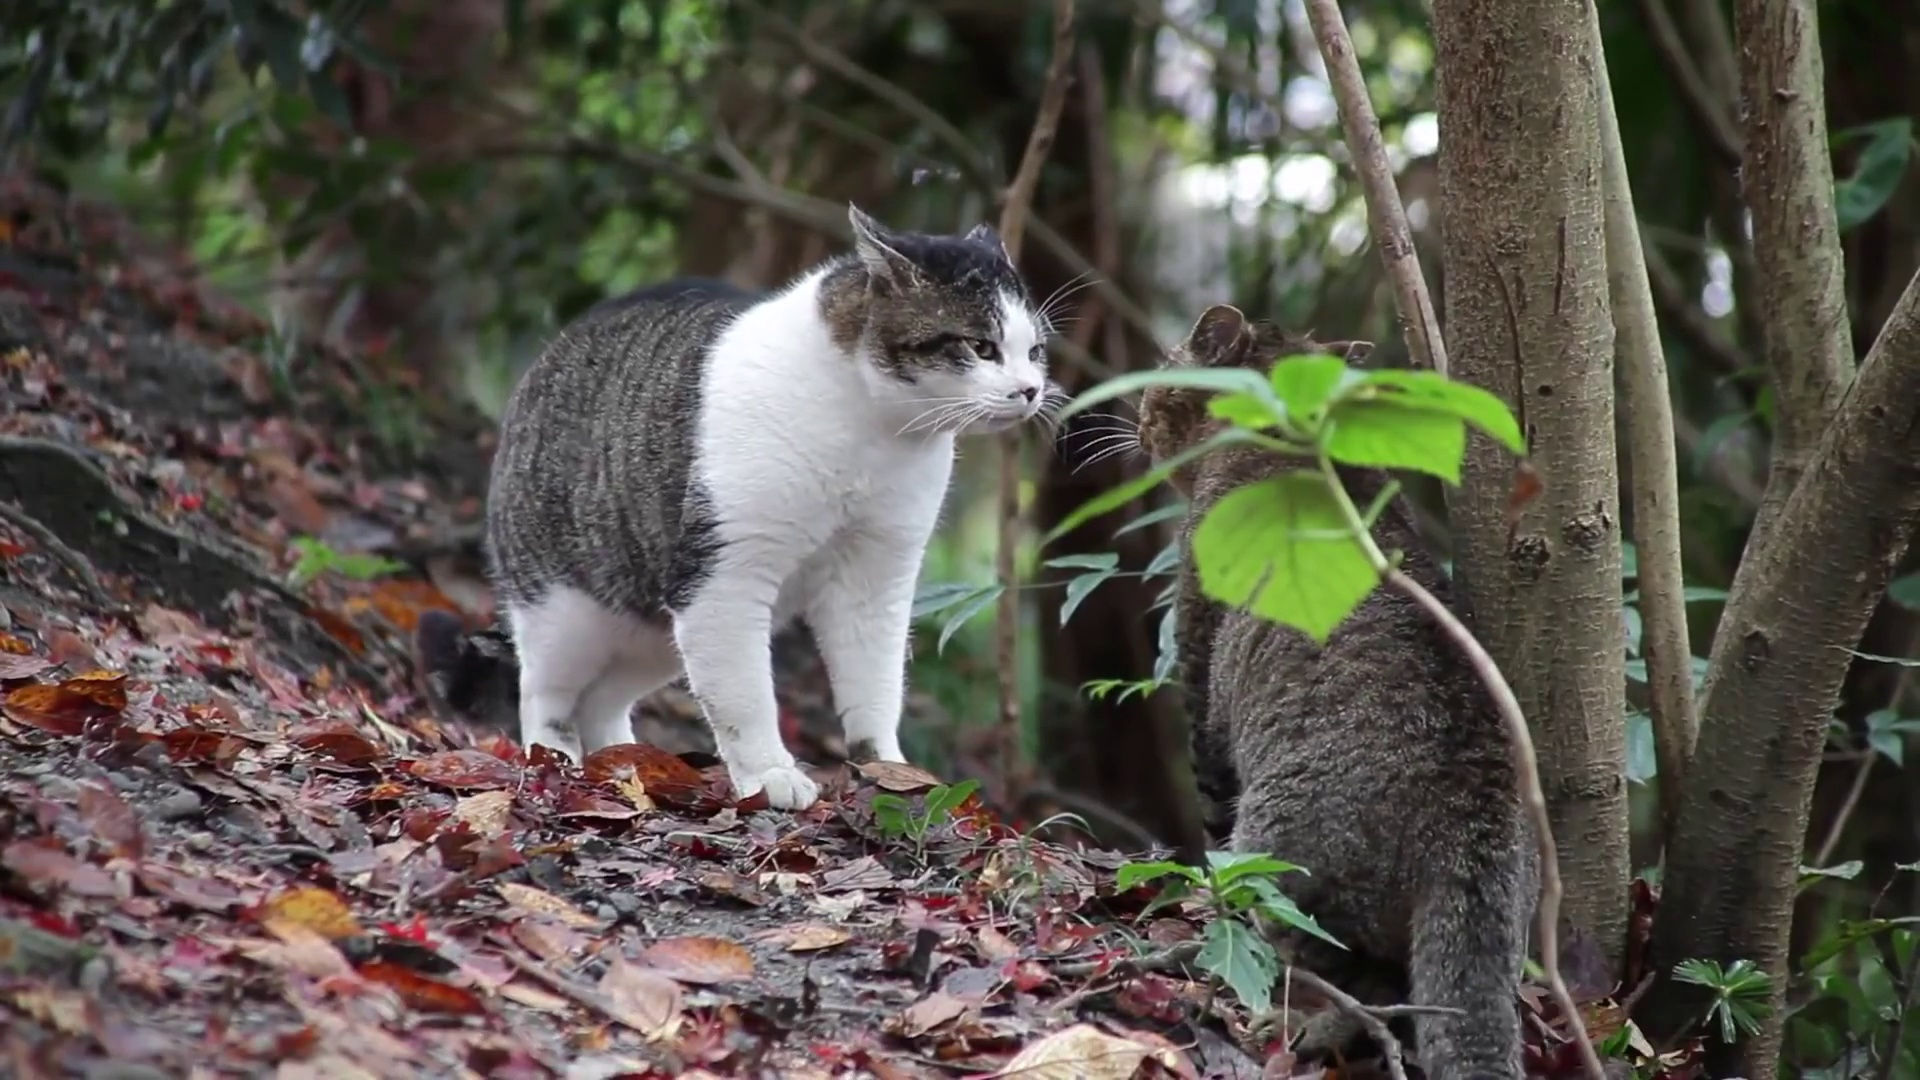black-white: (477, 202, 1047, 808)
pure black: (1135, 305, 1528, 1080)
